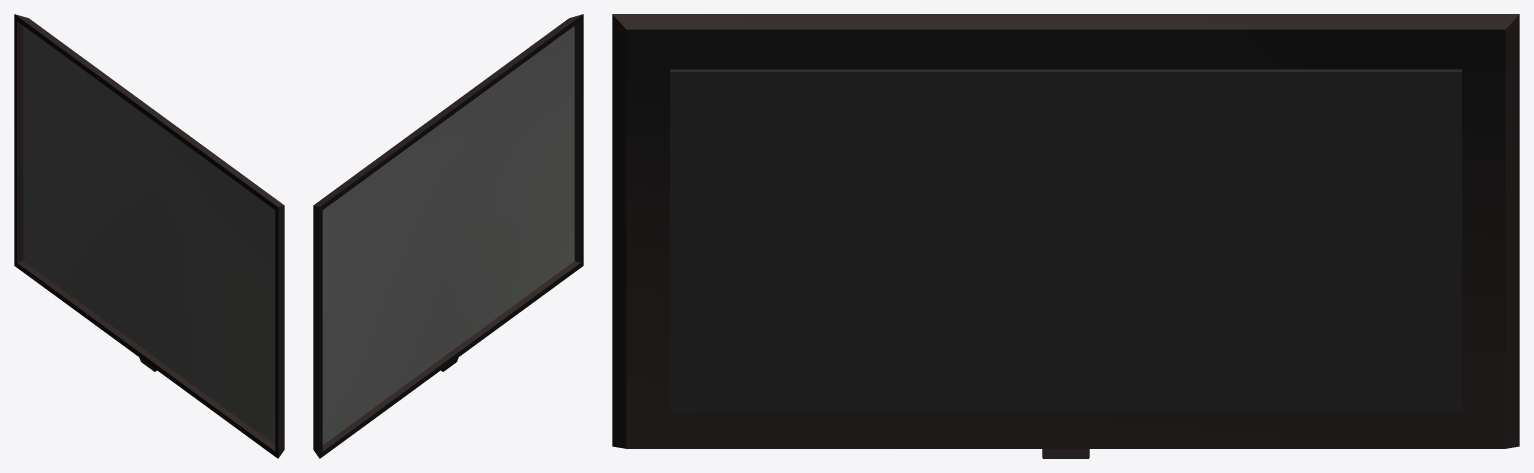
3 renders of one model, left to right at view 1: azimuth 30°, elevation 25°; view 2: azimuth 150°, elevation 25°; view 3: azimuth 270°, elevation 25°, orthographic. The views are drawn at different scales.
Parts seen in each view (by area): view 1: TV; view 2: TV; view 3: TV.
Part boxes in pixels (<box>): TV: <box>14,14,284,458</box>; TV: <box>313,14,583,458</box>; TV: <box>612,14,1519,458</box>.
Size of the model in its own units: 0.1974 by 3.51 by 6.54.
Materials: 1 (1 with a texture image).
